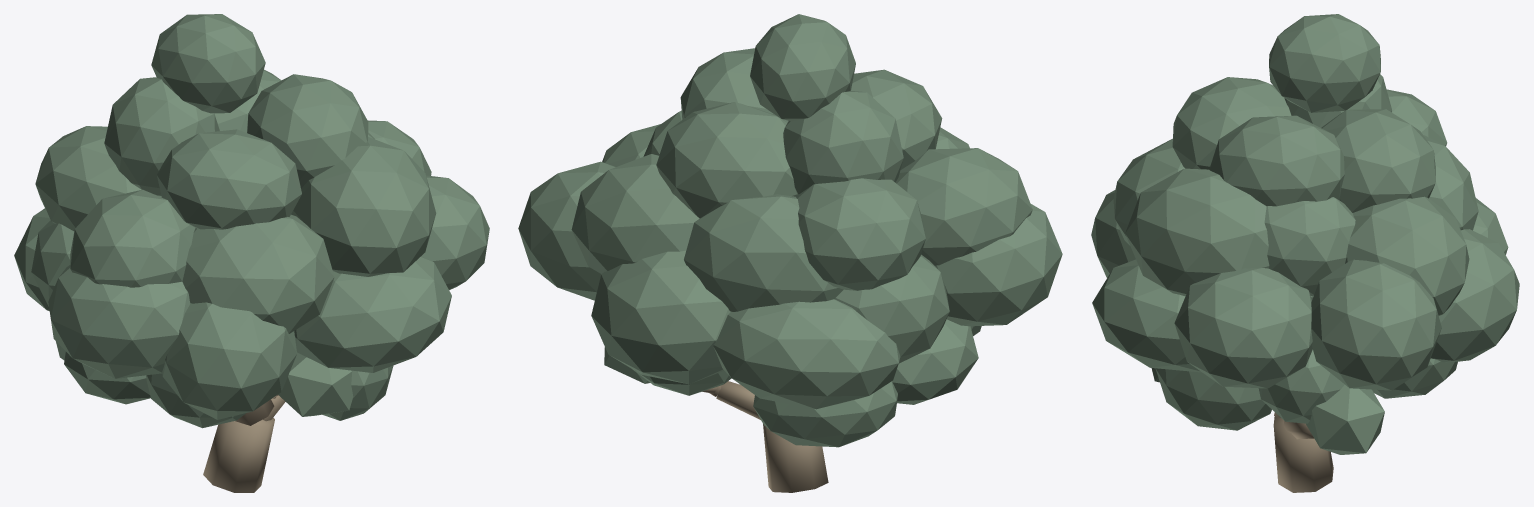
Rendered from juniper.glb.
3 renders of one model, left to right at view 1: azimuth 30°, elevation 25°; view 2: azimuth 150°, elevation 25°; view 3: azimuth 270°, elevation 25°, orthographic. The views are drawn at different scales.
Parts seen in each view (by area): view 1: juniper; view 2: juniper; view 3: juniper.
Boxes of the visible parts, left/top/right/bottom form: juniper: left=14, top=14, right=489, bottom=492; juniper: left=518, top=14, right=1062, bottom=492; juniper: left=1091, top=14, right=1519, bottom=492.
Size of the model in its own units: 3.36 by 3.43 by 2.91.
